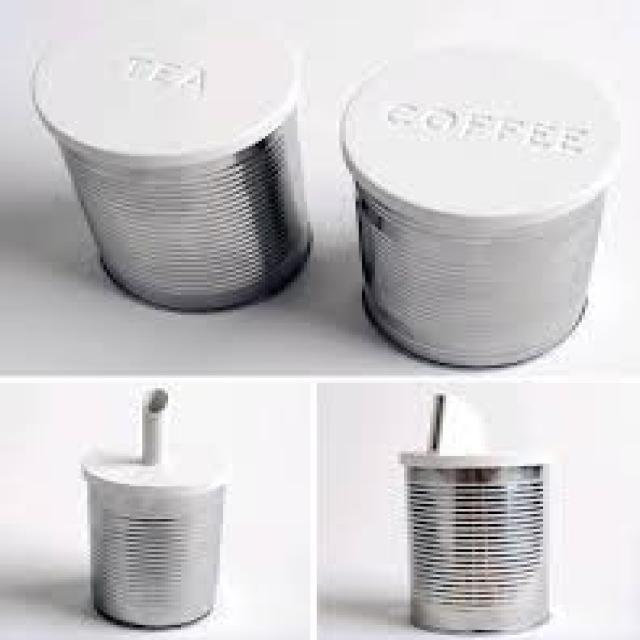metal: (49, 81, 314, 313), (356, 121, 585, 365), (401, 448, 546, 630), (87, 456, 220, 622)
